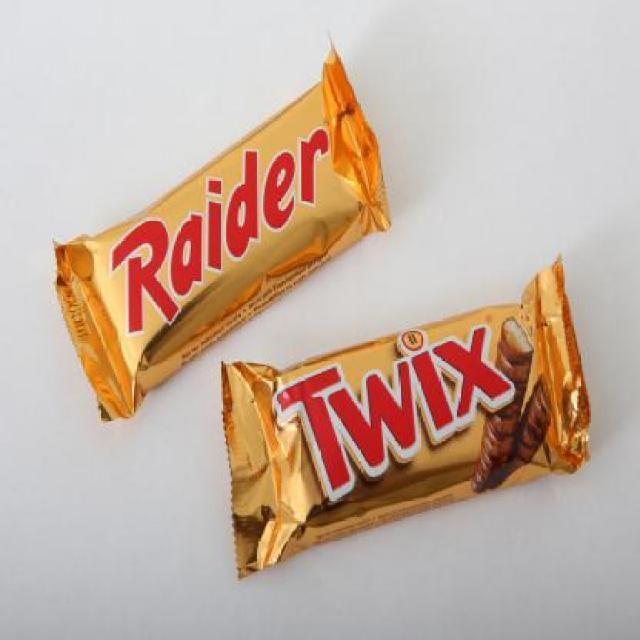Chocolate bar: (54, 49, 390, 425), (217, 257, 592, 574)
